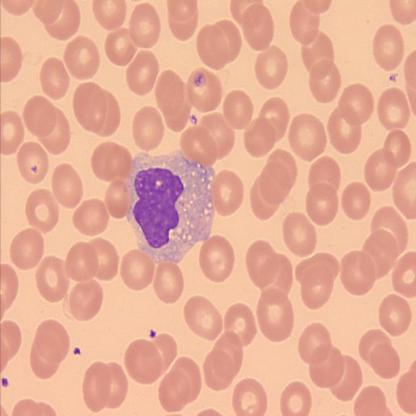Monocyte: (123, 149, 218, 265)
